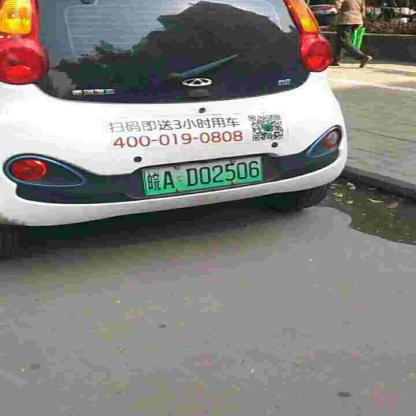lp: (141, 156, 263, 194)
